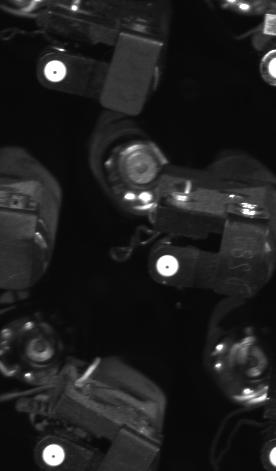fiber: (36, 55, 75, 91), (150, 249, 186, 285), (36, 440, 72, 471)
